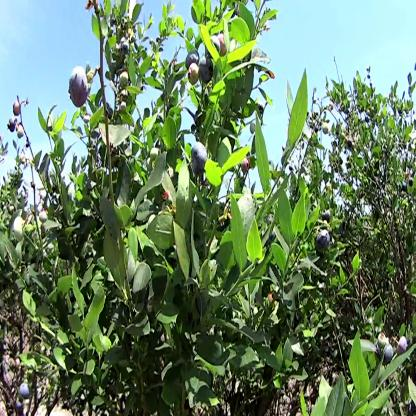intermediate: (188, 62, 199, 87), (13, 102, 22, 117)
mature: (68, 66, 89, 111), (313, 229, 333, 261), (192, 140, 208, 175), (199, 55, 215, 88), (8, 116, 17, 133)
young: (13, 217, 25, 244), (120, 69, 130, 88), (16, 126, 27, 142), (378, 330, 387, 349)
